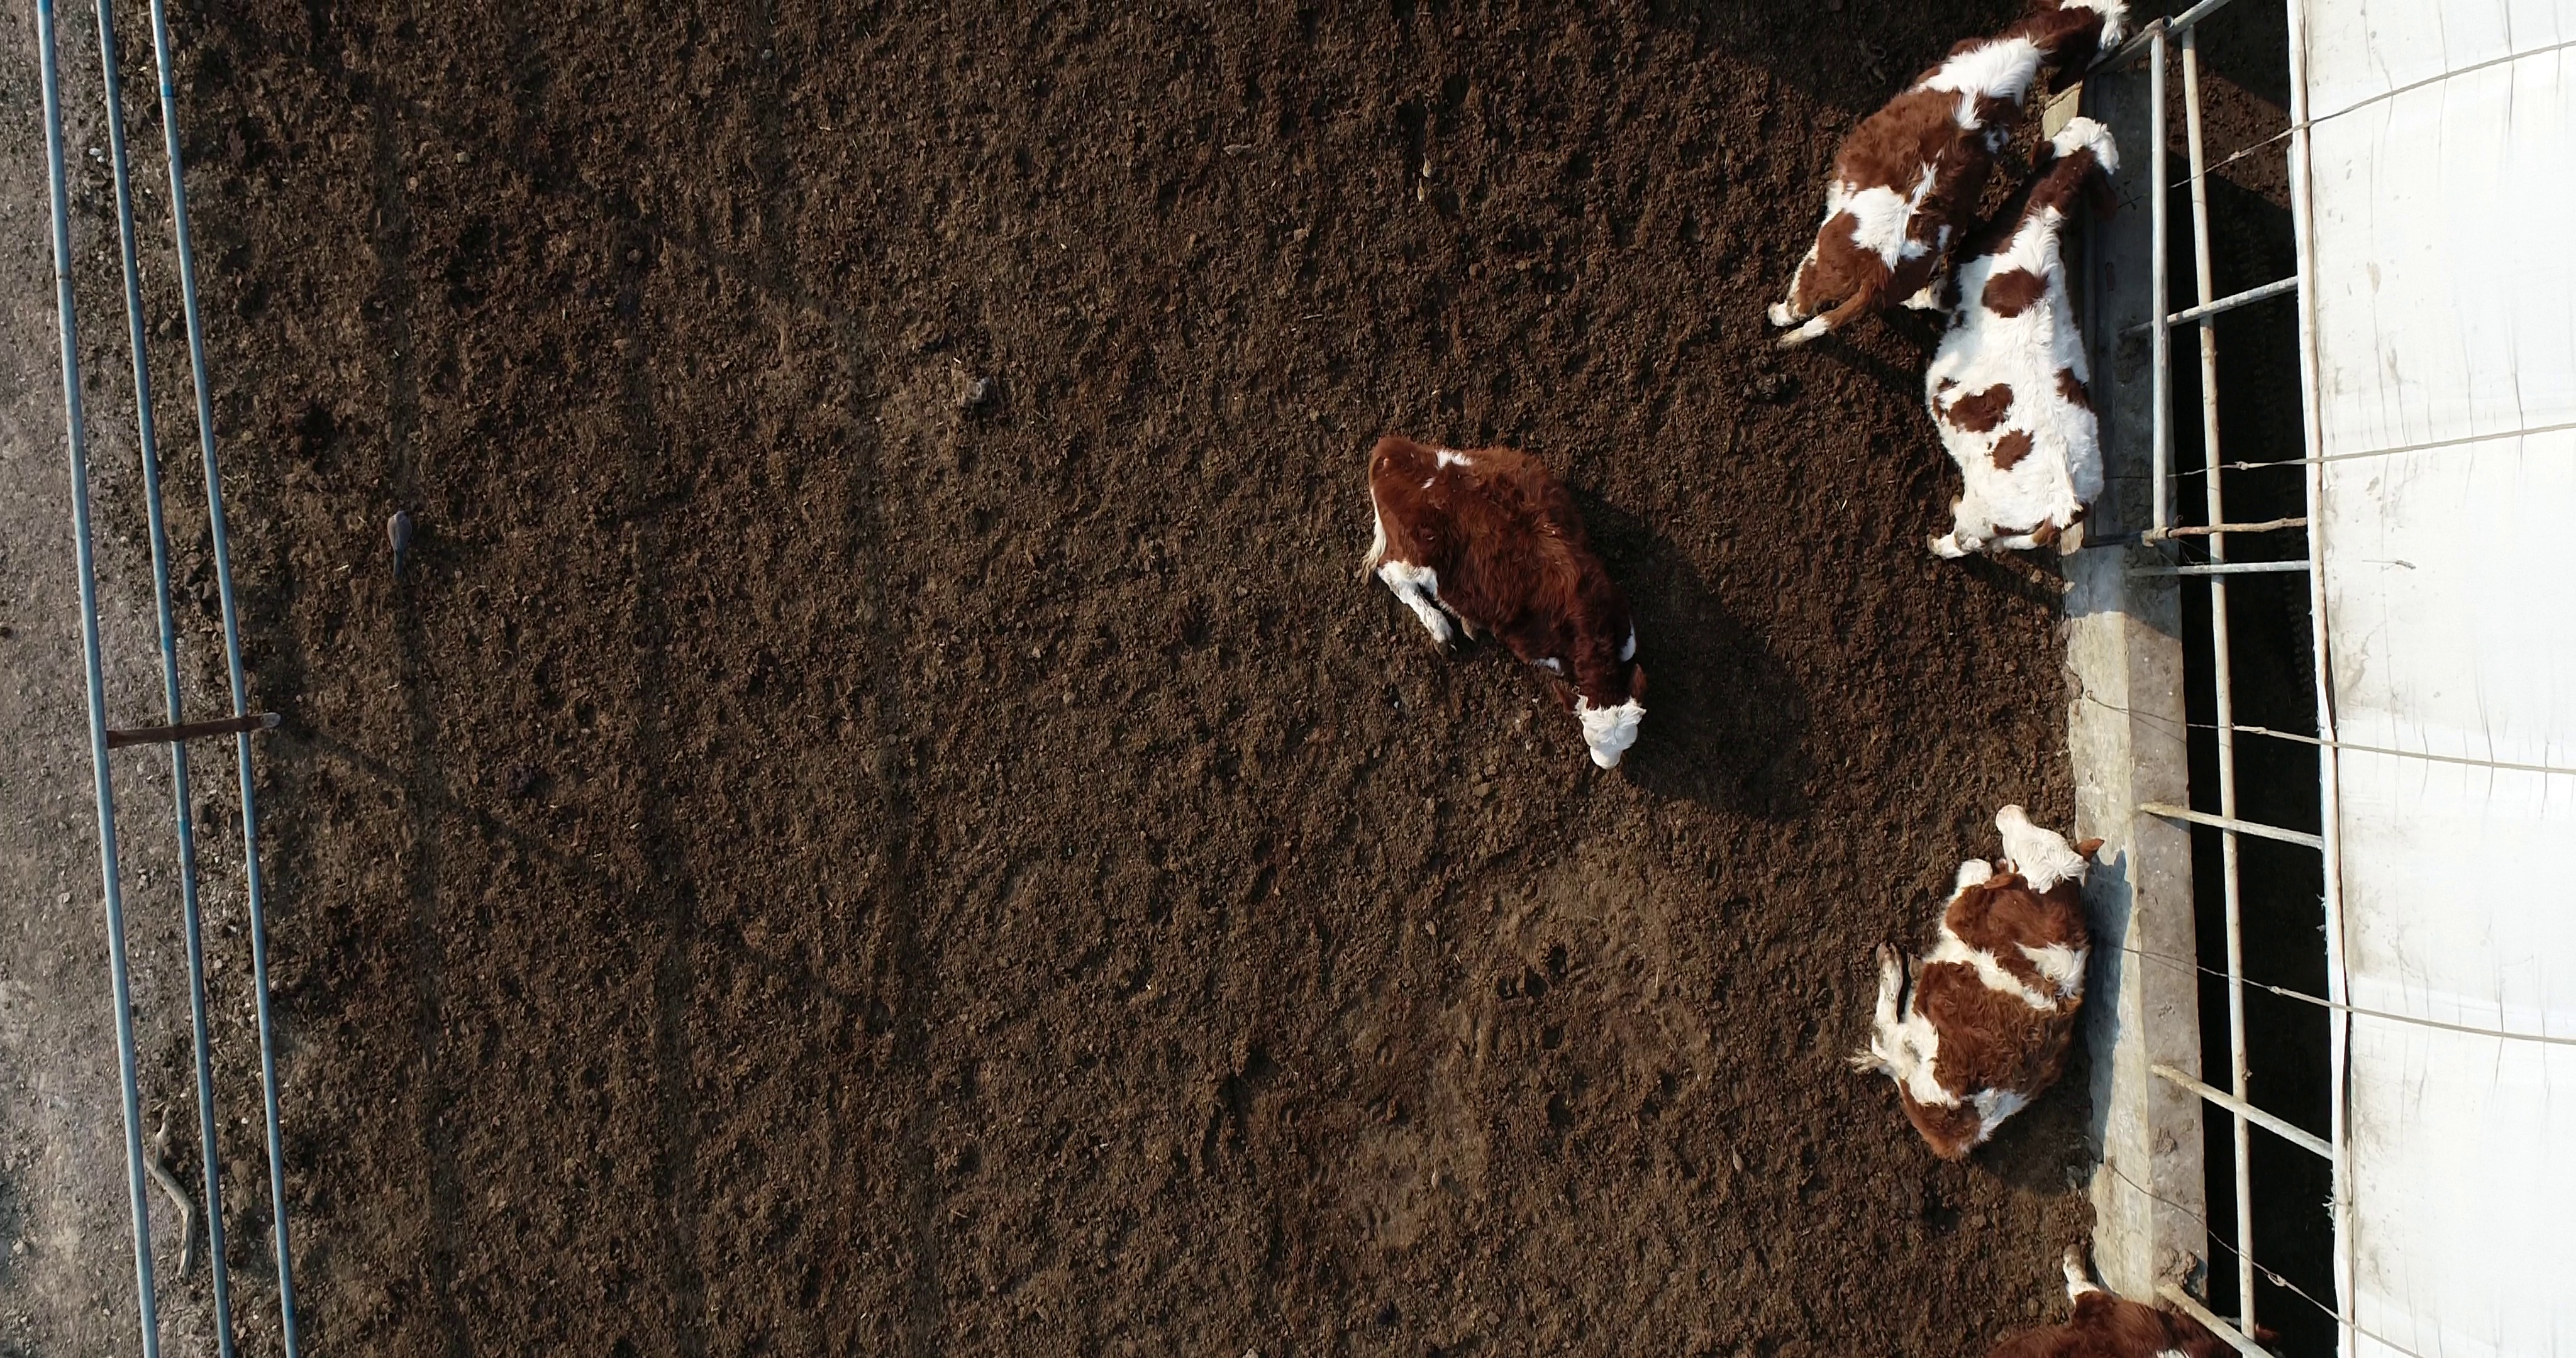cattle: (1348, 429, 1663, 777), (1835, 796, 2113, 1169), (1912, 111, 2128, 573)
